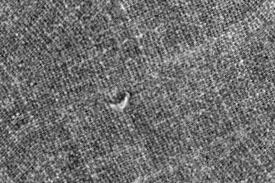snag: (104, 89, 134, 115)
